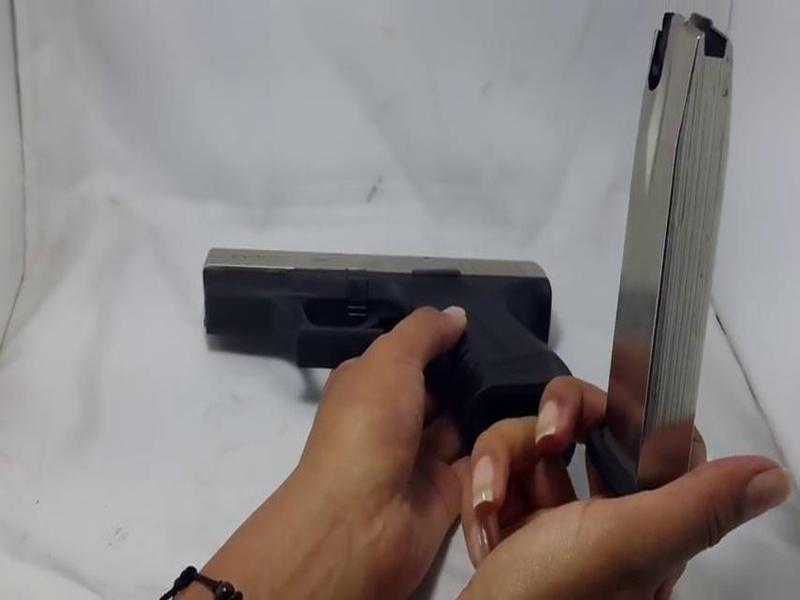Pistola: (196, 233, 572, 419)
